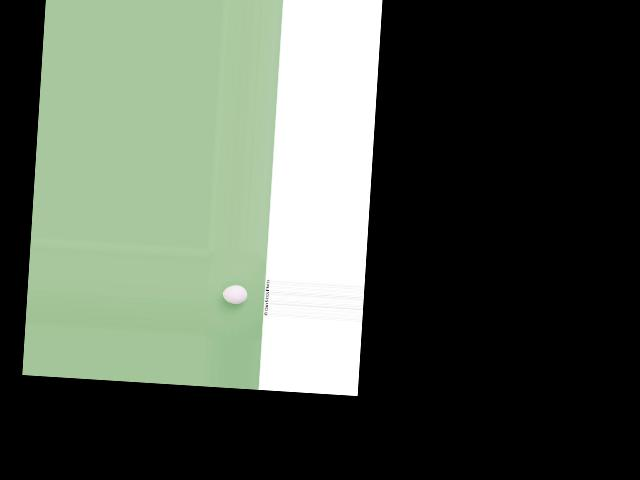egg: (222, 284, 248, 304)
